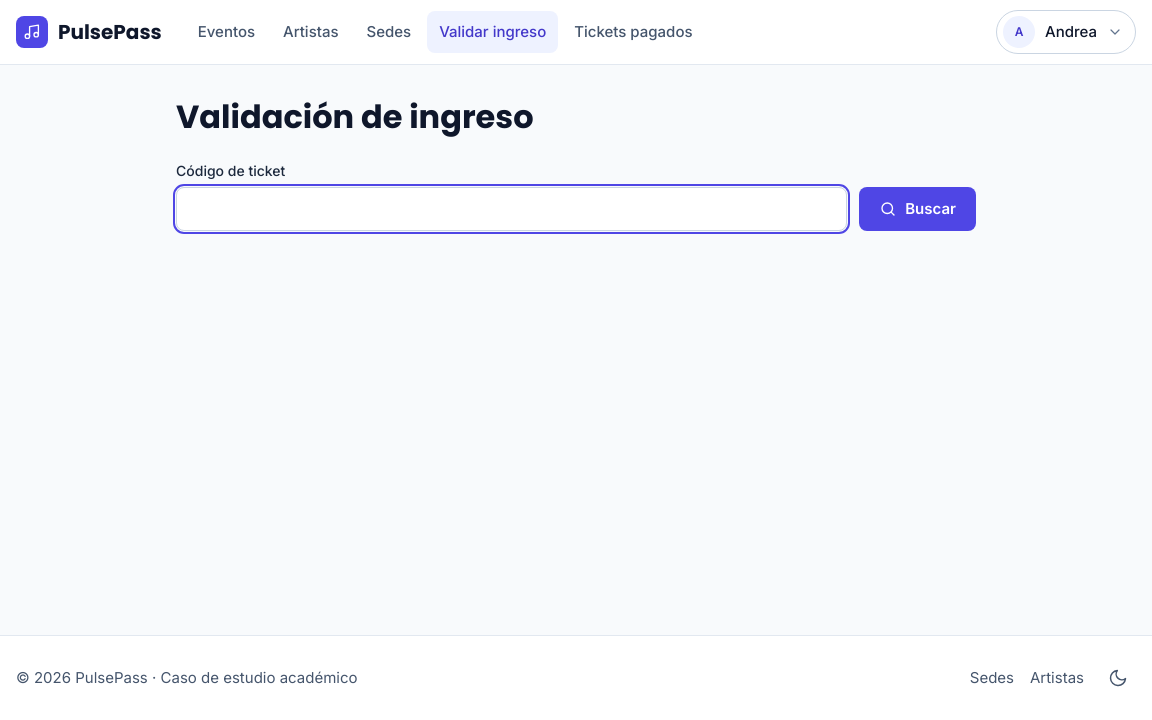
Test: Validación de ingreso (STAFF) › TEST-FE-STF-003: un ticket ya usado (409) muestra el mensaje del backend
The image size is (1152, 720).
Type "TKT-8F2A1C" into the field labelled "Código de ticket" at (512, 209), box top-left (176, 187), bottom-right (847, 231)
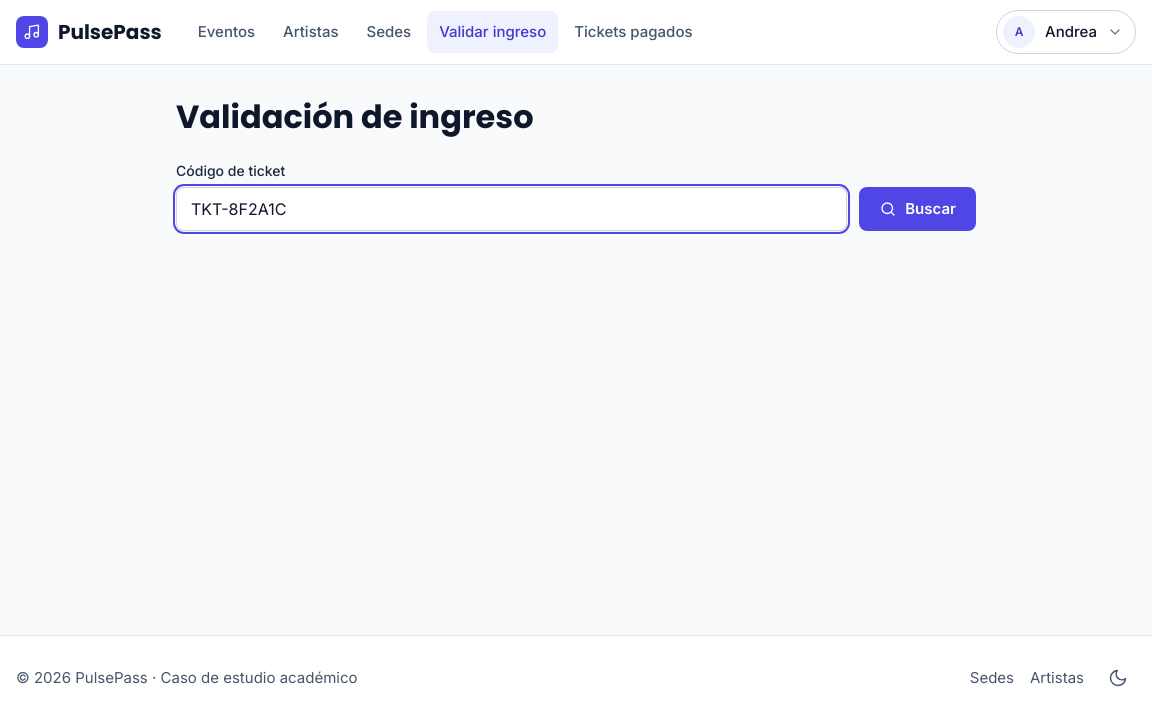
Click the button "Buscar" at (918, 209), box top-left (859, 187), bottom-right (976, 231)
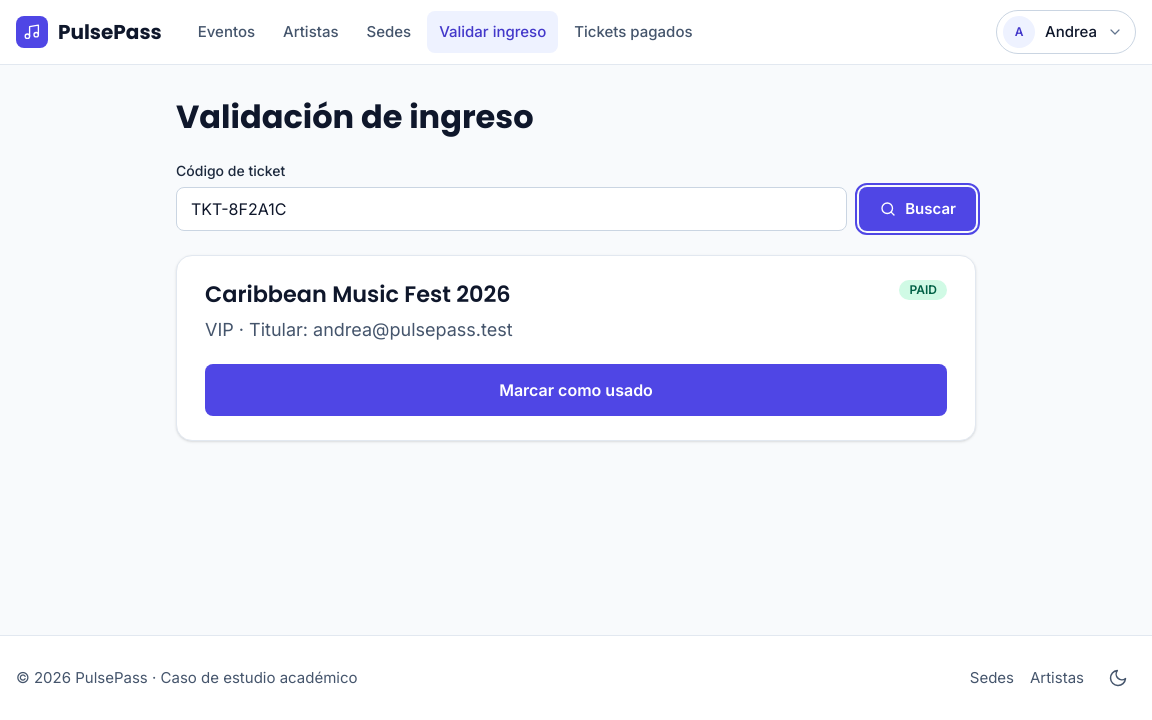
Click the button "Marcar como usado" at (576, 390), box top-left (205, 364), bottom-right (947, 416)
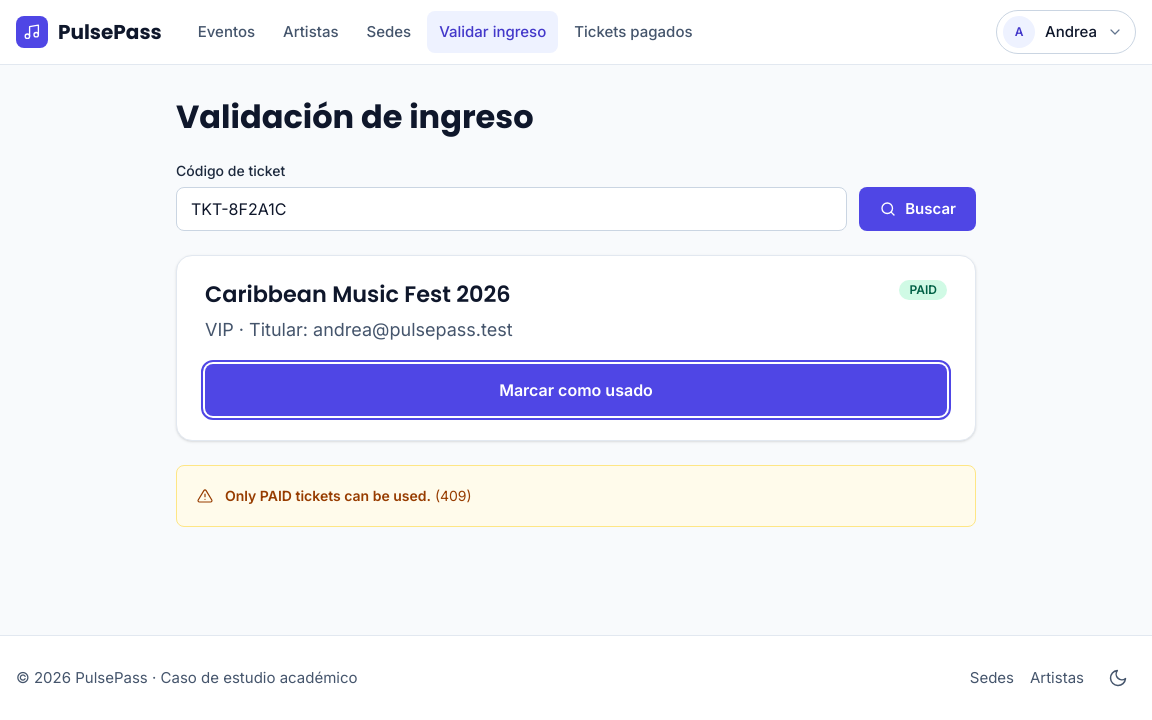
expect the text "Only PAID tickets can be used." is shown: met, box top-left (225, 487), bottom-right (431, 504)
